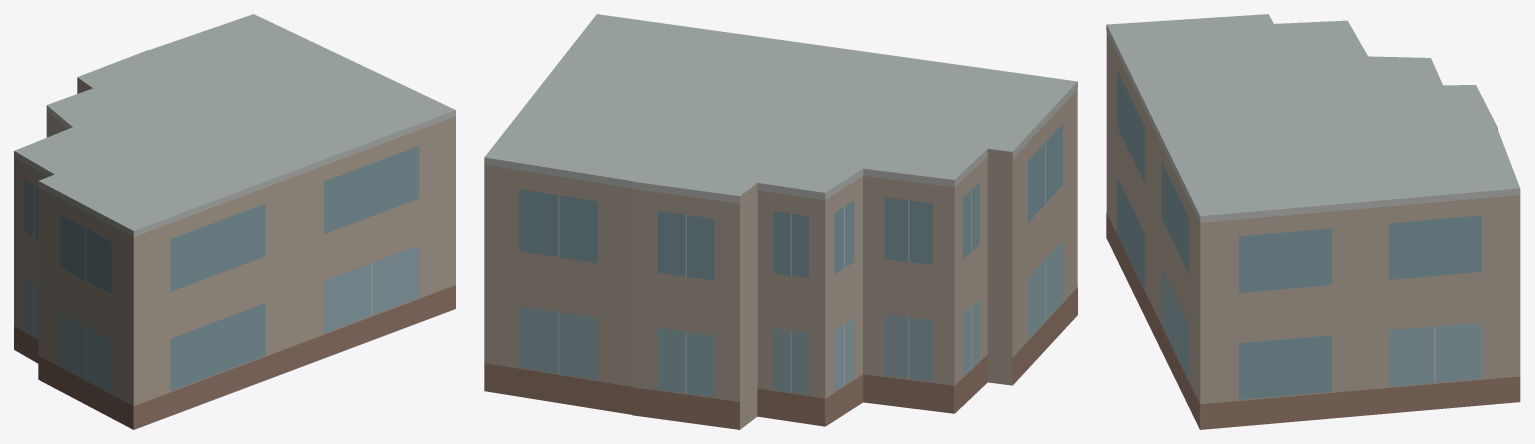
The model's file is survey-upis-32616226.glb.
3 views of the same model, side by side, from view 1: azimuth 30°, elevation 25°; view 2: azimuth 150°, elevation 25°; view 3: azimuth 270°, elevation 25° (orthographic). The views are drawn at different scales.
Parts seen in each view (by area): view 1: survey-upis-32616226.tmp; view 2: survey-upis-32616226.tmp; view 3: survey-upis-32616226.tmp.
Boxes of the visible parts, left/top/right/bottom form: survey-upis-32616226.tmp: left=14, top=14, right=455, bottom=429; survey-upis-32616226.tmp: left=484, top=14, right=1077, bottom=429; survey-upis-32616226.tmp: left=1106, top=14, right=1520, bottom=429.
Size of the model in its own units: 15.84 by 7.8 by 13.7.
